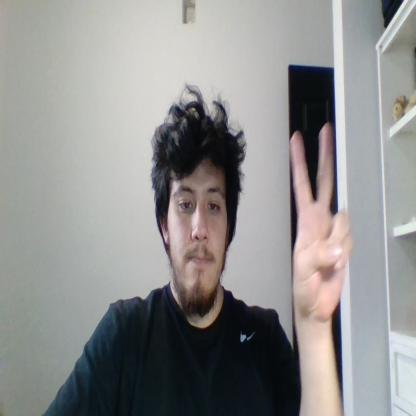V: (289, 122, 352, 322)
